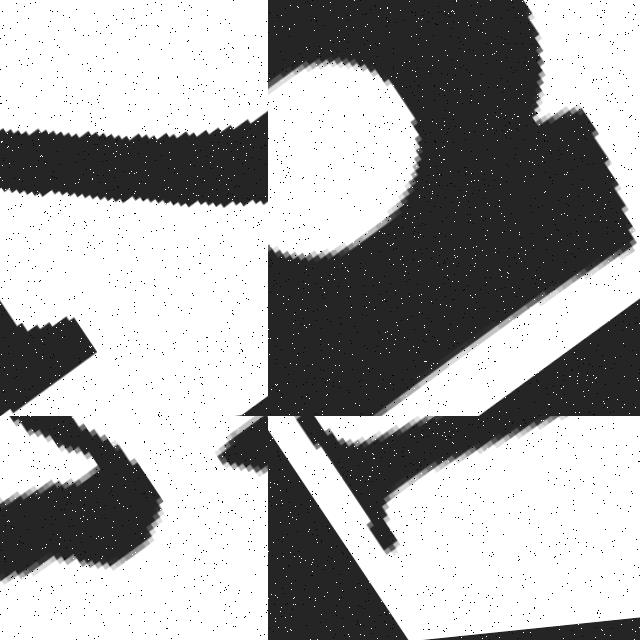2: (0, 0, 268, 416)
A: (268, 0, 640, 416)
I: (0, 416, 268, 640)
Q: (268, 416, 640, 639)
